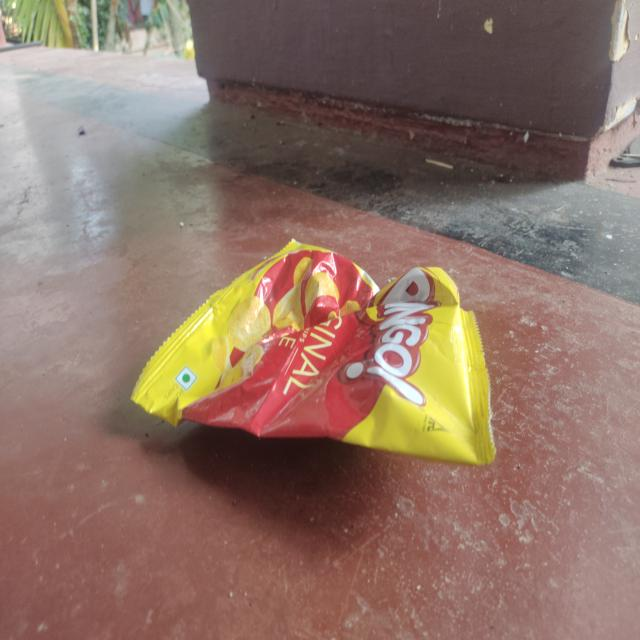plastic: (127, 236, 500, 474)
